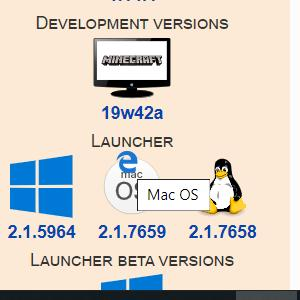edge: (117, 151, 138, 174)
